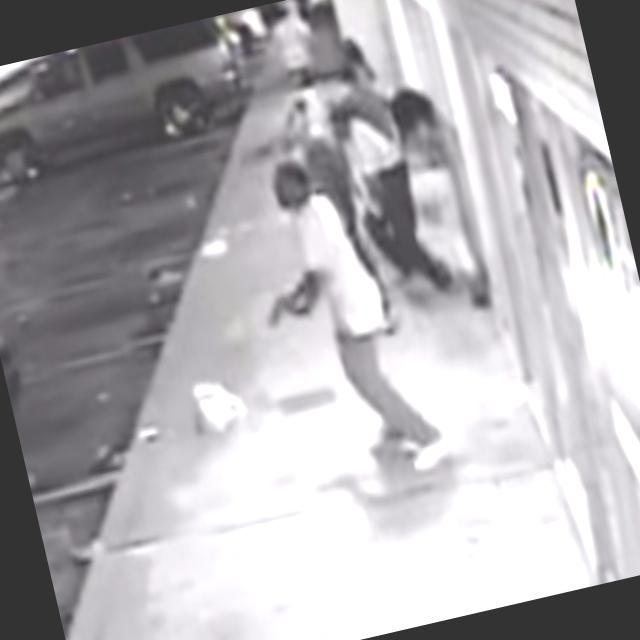handgun: (258, 286, 295, 328)
